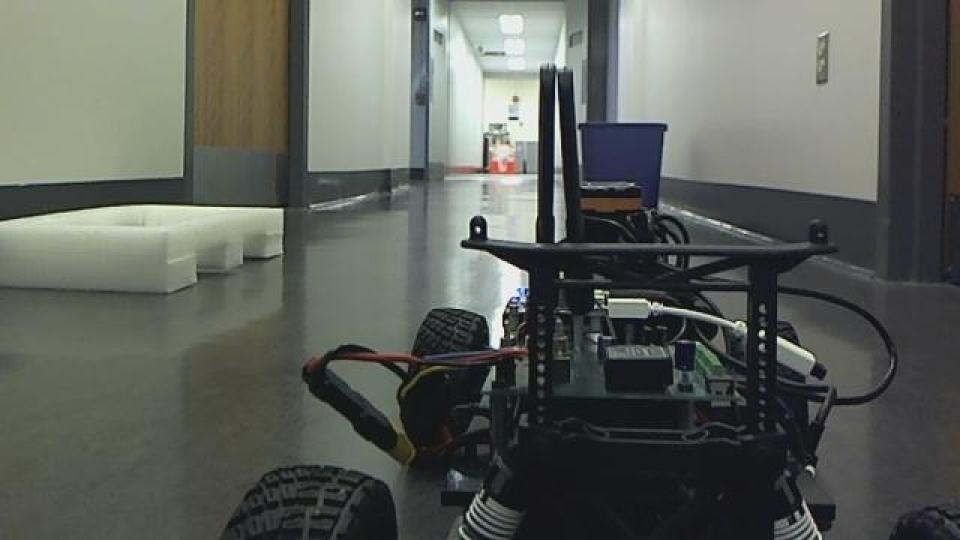car: (216, 61, 902, 537)
